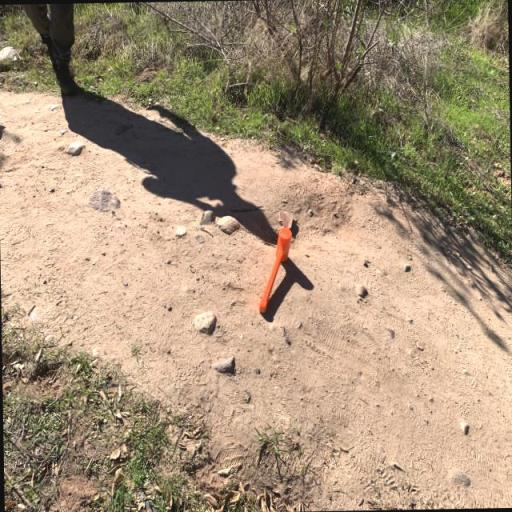mallet: (256, 227, 294, 313)
